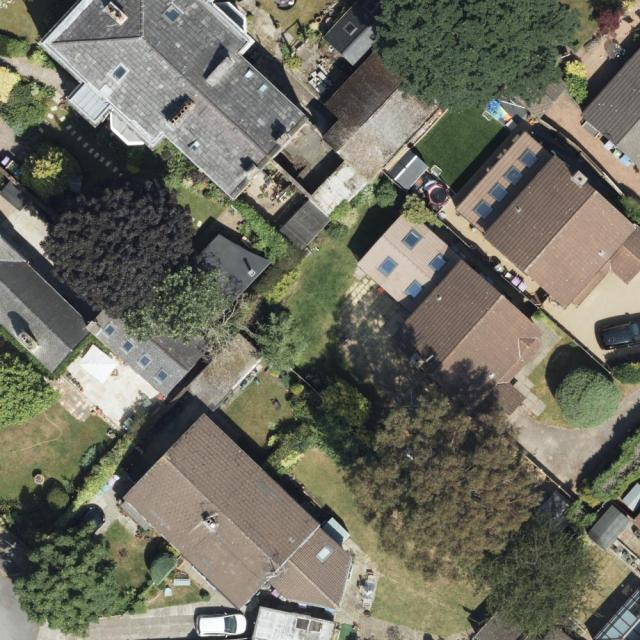roof: (45, 0, 311, 201), (120, 409, 353, 608), (361, 209, 547, 428), (0, 230, 210, 398), (455, 129, 640, 310), (283, 49, 444, 253), (586, 43, 640, 168), (193, 235, 273, 302), (323, 0, 389, 63), (253, 605, 338, 640)
skylight: (400, 228, 423, 251), (488, 181, 511, 202), (503, 165, 525, 185), (377, 256, 397, 277), (428, 252, 449, 272), (316, 543, 335, 565), (404, 279, 424, 299), (473, 200, 493, 220), (521, 149, 539, 167), (138, 353, 152, 370), (152, 368, 169, 382), (122, 337, 134, 353), (104, 323, 117, 337)
